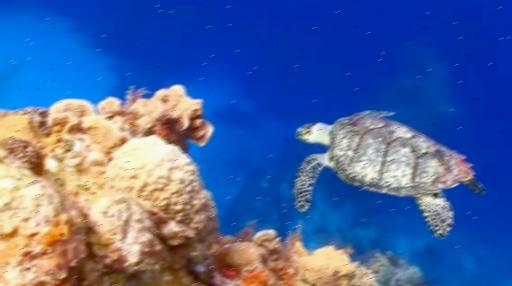Fish: (293, 110, 485, 236)
